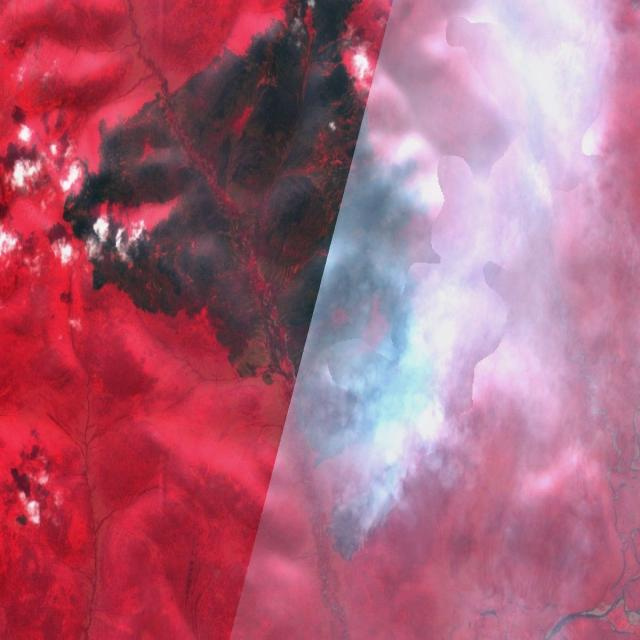fire: (320, 332, 440, 566)
